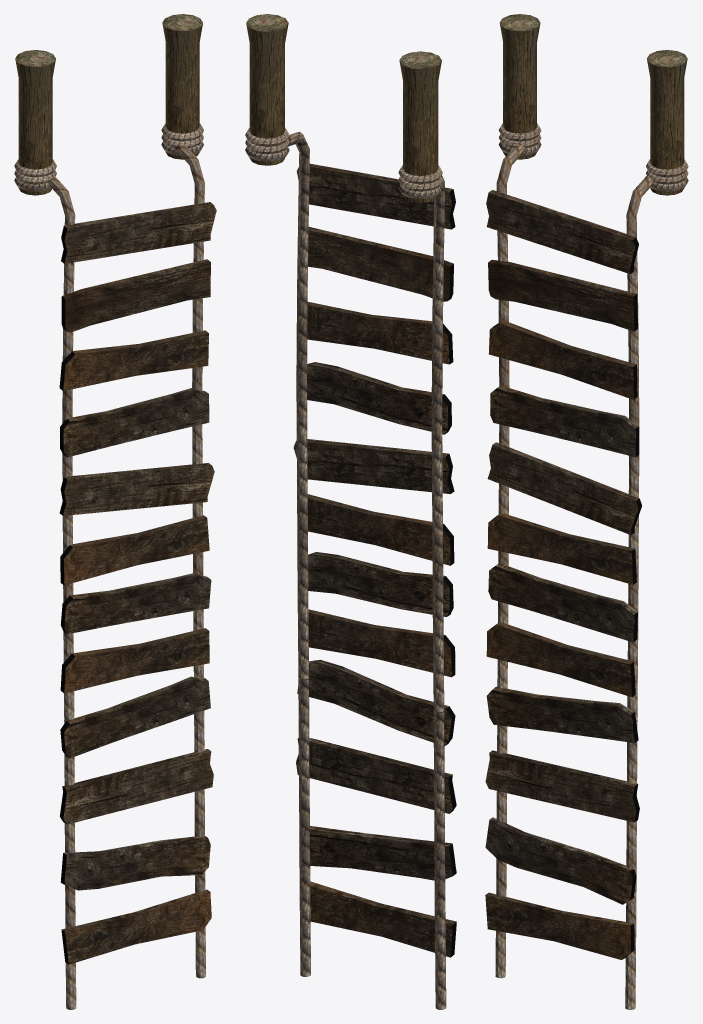
Rendered from SM_wLadderLong.FBX.
The picture shows the model from 3 angles, left to right: view 1: azimuth 30°, elevation 25°; view 2: azimuth 150°, elevation 25°; view 3: azimuth 330°, elevation 25°; orthographic projection. The views are drawn at different scales.
Visible parts, largest first — view 1: SM_wLadder_02; view 2: SM_wLadder_02; view 3: SM_wLadder_02.
Part boxes in pixels (left/top/right/bottom): SM_wLadder_02: left=14, top=14, right=216, bottom=1009; SM_wLadder_02: left=245, top=14, right=456, bottom=1009; SM_wLadder_02: left=485, top=14, right=688, bottom=1009.
Size of what is drawn, in the model's own units: 200 by 968 by 82.72.
